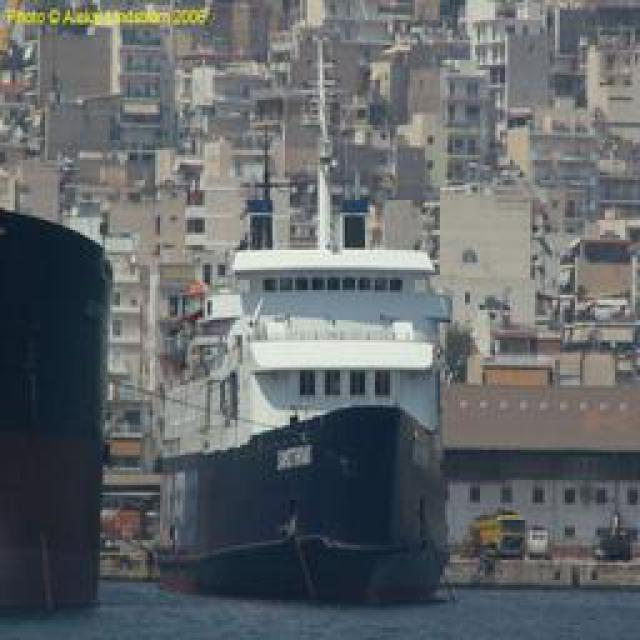Ship: (143, 148, 461, 593)
